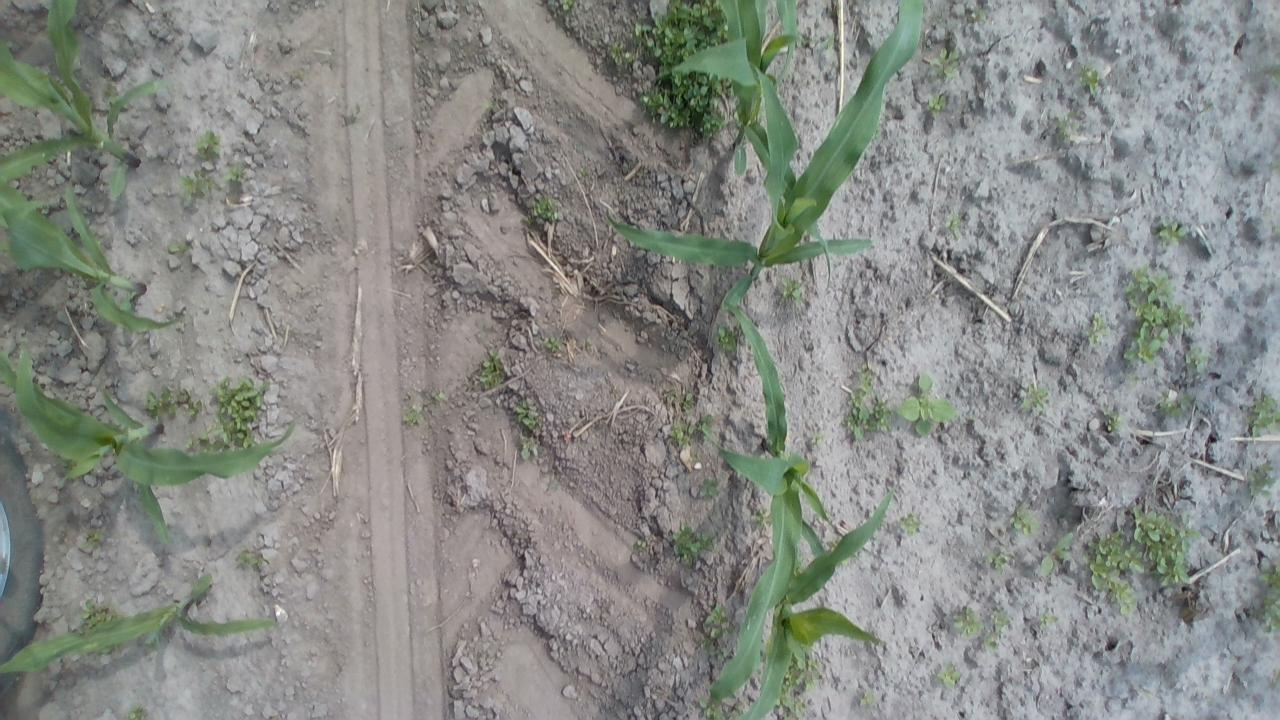Maize: (590, 6, 921, 317), (3, 352, 304, 552), (697, 326, 842, 712), (726, 479, 896, 720), (646, 0, 810, 211), (0, 0, 170, 203), (0, 164, 187, 340), (0, 573, 286, 687)
Weeds: (1122, 266, 1194, 366), (1129, 505, 1200, 590), (640, 1, 730, 66), (642, 70, 728, 138), (212, 375, 267, 454), (896, 369, 956, 439), (1086, 528, 1144, 598), (842, 362, 891, 442), (778, 653, 816, 719), (669, 522, 716, 569), (1039, 531, 1076, 577), (1098, 578, 1137, 616), (142, 386, 180, 421), (1248, 391, 1276, 438), (476, 349, 508, 390), (78, 598, 118, 628), (1246, 461, 1274, 502), (950, 603, 984, 635), (672, 414, 704, 448), (1018, 382, 1051, 414), (702, 604, 726, 648), (930, 48, 962, 80), (181, 169, 216, 198), (514, 398, 544, 431), (1010, 503, 1038, 538), (1076, 64, 1102, 101), (1160, 389, 1194, 417), (1156, 220, 1190, 248), (1256, 588, 1277, 632), (532, 194, 562, 224), (779, 275, 806, 307), (175, 389, 202, 420), (1056, 110, 1080, 144), (233, 545, 266, 569), (196, 129, 224, 157), (1184, 344, 1211, 373), (700, 699, 739, 719), (608, 40, 637, 66), (716, 322, 738, 355), (1086, 312, 1108, 343), (986, 547, 1011, 574), (988, 608, 1012, 635), (896, 512, 922, 535), (938, 664, 962, 688), (926, 92, 950, 116), (401, 403, 426, 425), (518, 434, 538, 461), (1104, 410, 1126, 433), (700, 476, 720, 499), (820, 33, 840, 56), (966, 5, 990, 24), (753, 507, 772, 530), (943, 214, 964, 234), (83, 528, 104, 548), (540, 334, 562, 353), (169, 240, 193, 256), (858, 689, 877, 709), (1260, 565, 1278, 586), (125, 705, 151, 719), (982, 633, 1000, 652), (808, 428, 824, 449), (227, 164, 245, 182), (632, 536, 650, 554), (1264, 62, 1276, 88), (578, 165, 594, 184), (1038, 611, 1056, 627), (558, 0, 577, 14), (629, 23, 644, 40), (432, 390, 448, 404), (484, 97, 498, 112)
